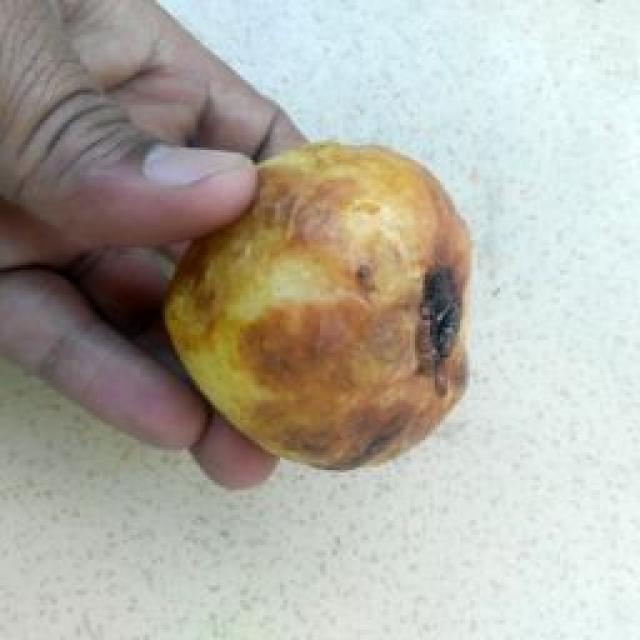Organik: (149, 137, 517, 461)
